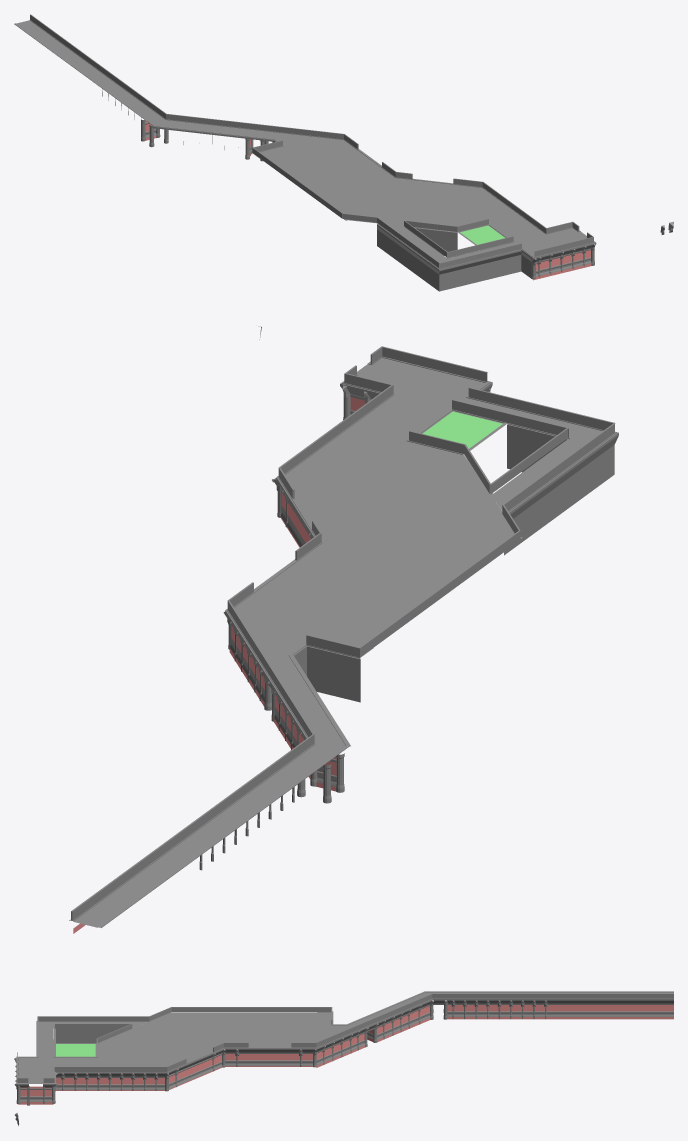
File: COL_SM_ENV_KNVLLG03_BridgeA.gltf
The picture shows the model from 3 angles, top to bottom: view 1: azimuth 30°, elevation 25°; view 2: azimuth 150°, elevation 25°; view 3: azimuth 270°, elevation 25°; orthographic projection. The views are drawn at different scales.
Parts seen in each view (by area): view 1: COL_SM_ENV_KNVLLG03_BridgeA; view 2: COL_SM_ENV_KNVLLG03_BridgeA; view 3: COL_SM_ENV_KNVLLG03_BridgeA.
Part boxes in pixels (left/top/right/bottom): COL_SM_ENV_KNVLLG03_BridgeA: left=14, top=14, right=673, bottom=291; COL_SM_ENV_KNVLLG03_BridgeA: left=69, top=326, right=618, bottom=933; COL_SM_ENV_KNVLLG03_BridgeA: left=14, top=991, right=673, bottom=1125.
Bounding box in the file's own units: 85.02 × 8.39 × 187.
